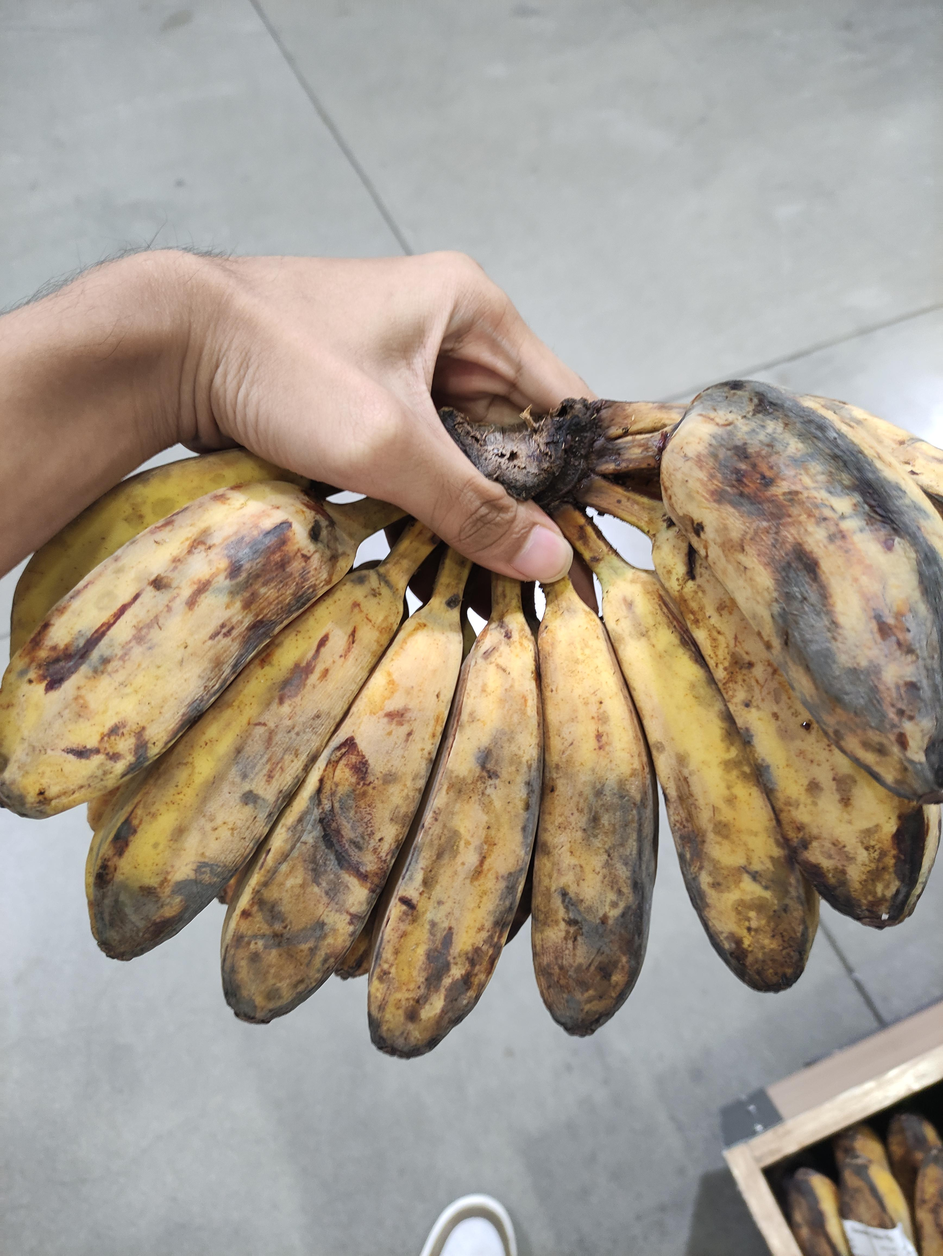ripe: (0, 380, 943, 1059)
